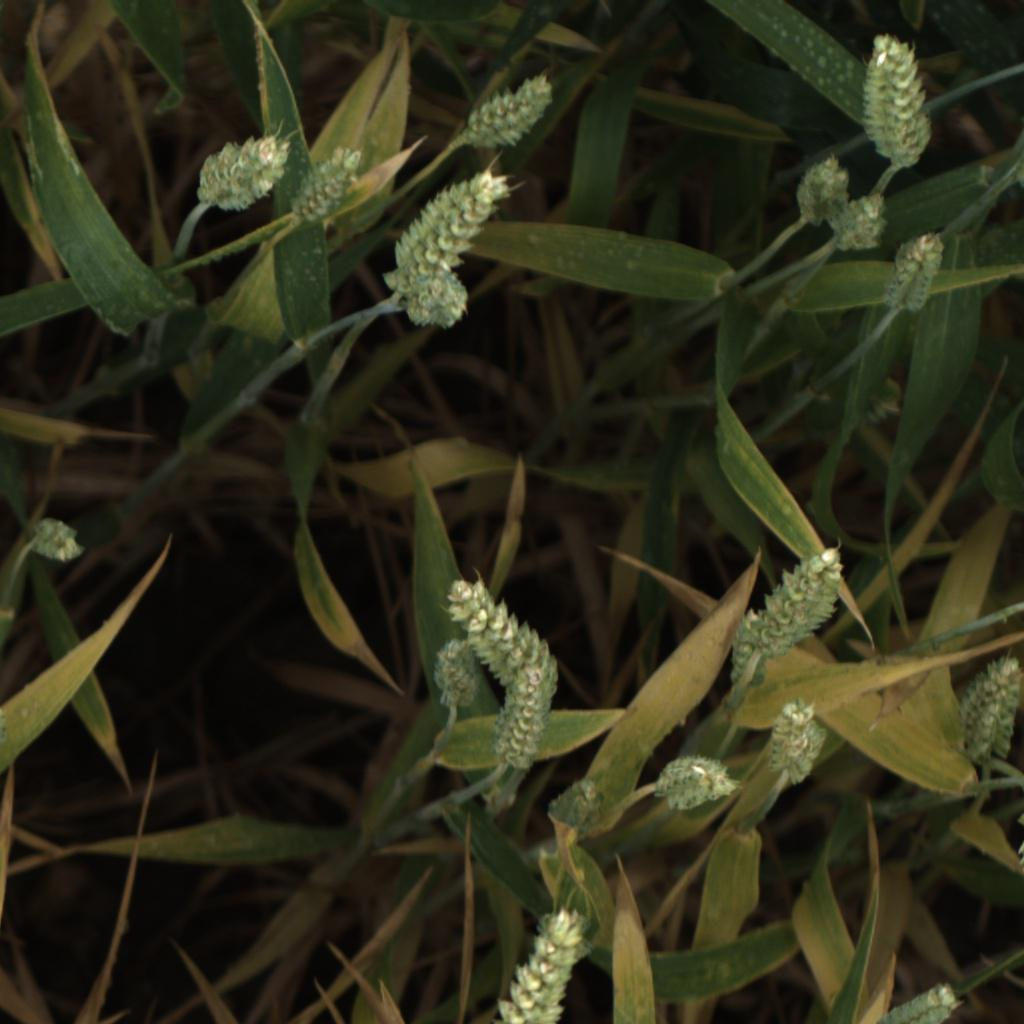0-0: (442, 567, 564, 689), (475, 901, 593, 1024), (392, 171, 520, 267), (755, 538, 855, 654), (856, 28, 931, 174), (461, 68, 567, 154), (197, 125, 293, 215), (951, 651, 1024, 767), (490, 668, 562, 776), (751, 700, 837, 788), (293, 139, 370, 229), (653, 749, 748, 819), (883, 229, 953, 317), (384, 266, 475, 330), (423, 636, 486, 725), (543, 768, 623, 838), (823, 190, 896, 260), (867, 972, 963, 1024), (719, 609, 775, 695), (21, 510, 94, 575), (797, 151, 850, 228)
